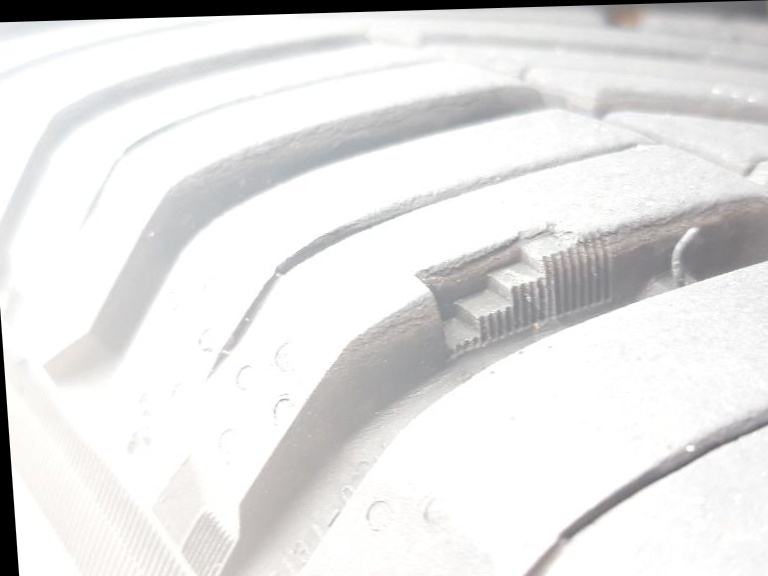temoin:90: (402, 207, 629, 376)
